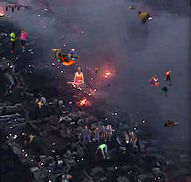Human: (82, 125, 114, 142), (112, 11, 150, 25), (51, 49, 81, 66), (67, 67, 90, 89), (145, 70, 176, 86), (10, 29, 28, 53), (21, 154, 57, 166), (93, 144, 110, 159), (125, 132, 137, 146), (5, 4, 20, 14), (164, 120, 180, 129), (28, 133, 36, 151), (34, 97, 46, 109), (160, 87, 168, 97), (66, 174, 72, 182), (28, 71, 36, 76), (128, 5, 136, 10), (24, 133, 27, 146), (95, 66, 98, 75), (106, 170, 108, 176), (87, 172, 89, 178), (122, 151, 126, 154), (25, 69, 27, 74), (108, 83, 110, 88), (175, 13, 177, 18), (180, 69, 185, 71)
